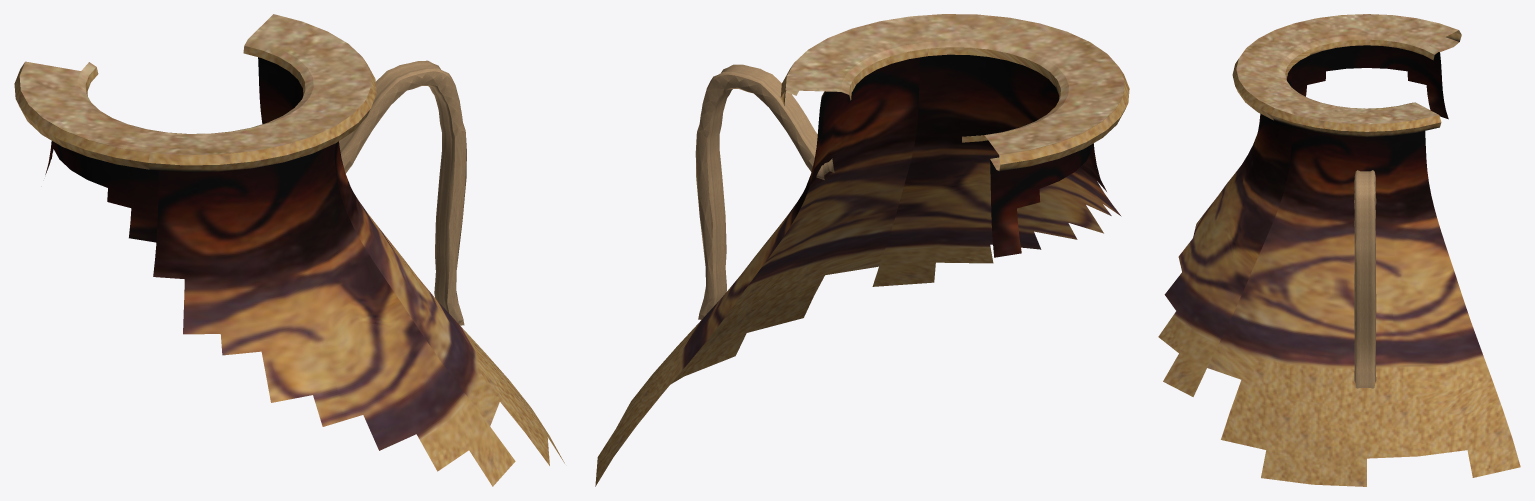
The model's file is vase1.FBX.
The picture shows the model from 3 angles, left to right: view 1: azimuth 30°, elevation 25°; view 2: azimuth 150°, elevation 25°; view 3: azimuth 270°, elevation 25°; orthographic projection. The views are drawn at different scales.
Parts seen in each view (by area): view 1: Group001, Line020; view 2: Group001, Line020; view 3: Group001, Line020.
Part boxes in pixels (x1,y1,x2,y2): Group001: (14,14,564,486); Line020: (339,60,466,325); Group001: (595,14,1129,486); Line020: (695,64,834,319); Group001: (1158,14,1520,486); Line020: (1354,170,1376,388).
Size of the model in its own units: 1655 by 1335 by 1459.
Materials: 2 (2 with a texture image).
